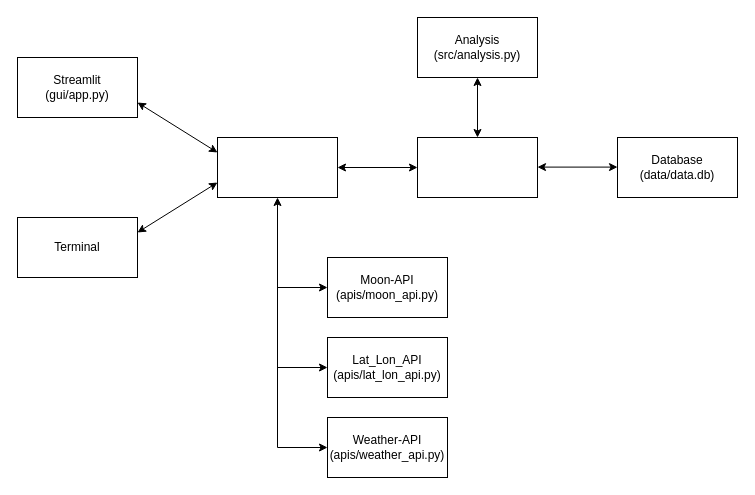
Image size: 755x495. Some labels were removed from this diagram. The centre of each missing label's shape, as x and y in pixels:
Backend Entrypoint (main.py): (277,167)
Database Access (src/database.py): (477,167)
